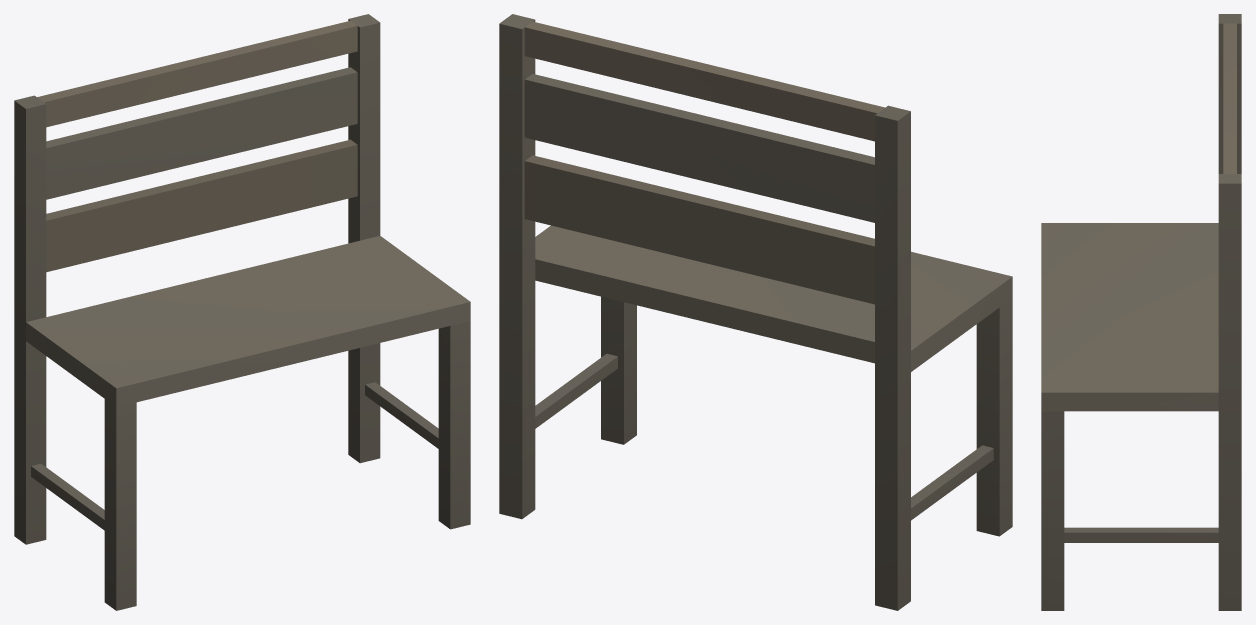
The model's file is seat.bench.weathered.glb.
3 renders of one model, left to right at view 1: azimuth 30°, elevation 25°; view 2: azimuth 150°, elevation 25°; view 3: azimuth 270°, elevation 25°, orthographic. The views are drawn at different scales.
Parts seen in each view (by area): view 1: seat_bench_weathered; view 2: seat_bench_weathered; view 3: seat_bench_weathered.
Part boxes in pixels (box(x1,y1,x2,y2)): seat_bench_weathered: box(14, 14, 470, 610); seat_bench_weathered: box(499, 14, 1012, 610); seat_bench_weathered: box(1041, 14, 1241, 610).
Size of what is drawn, in the model's own units: 0.783 by 0.92 by 0.391.
